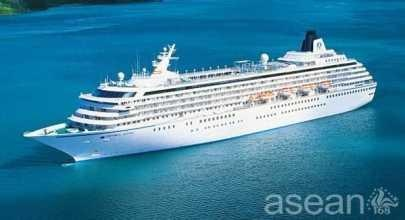youlun: (23, 28, 378, 163)
